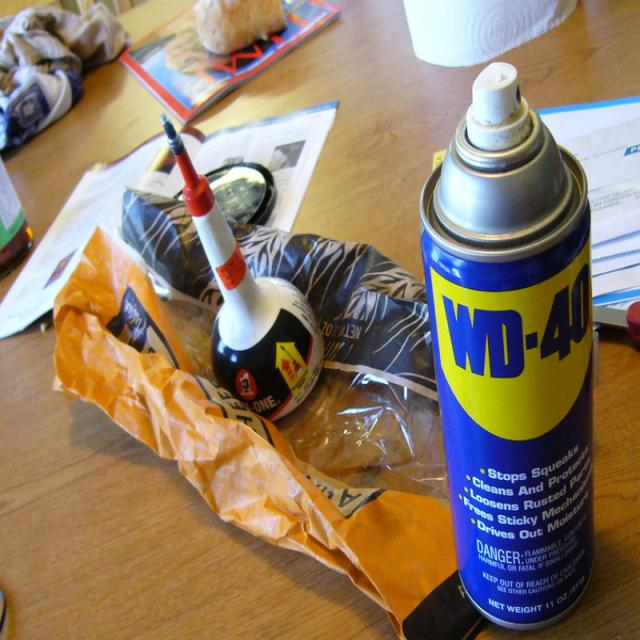container -bottle: (421, 63, 593, 628), (163, 116, 323, 420), (0, 158, 32, 277)
